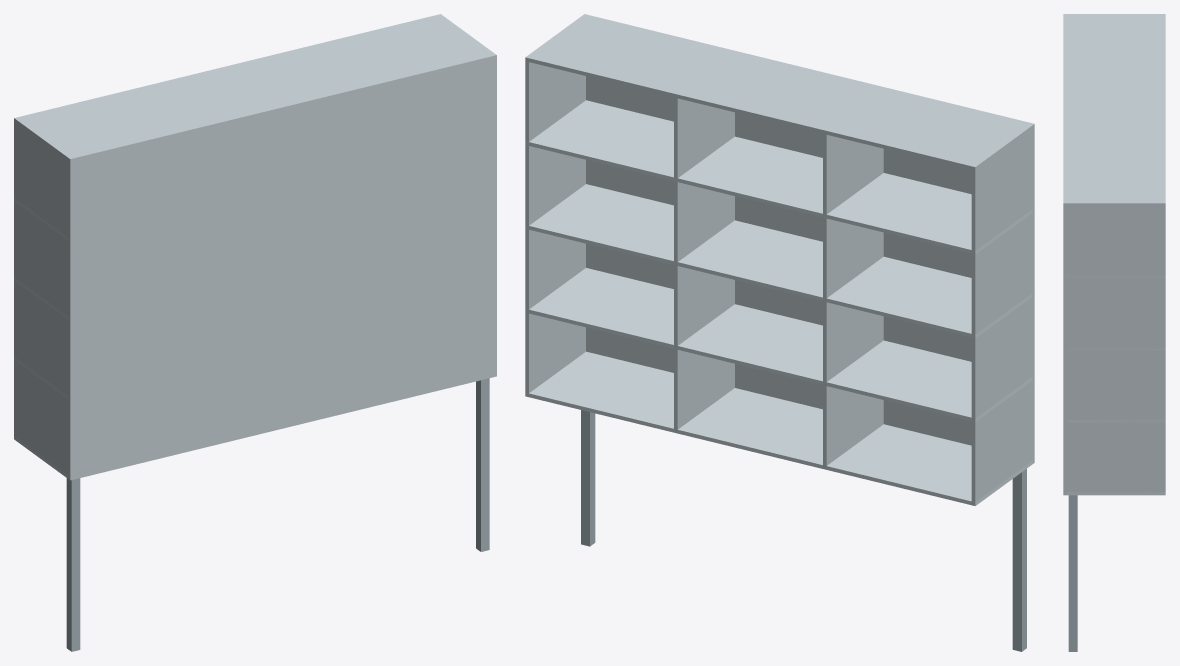
3 views of the same model, side by side, from view 1: azimuth 30°, elevation 25°; view 2: azimuth 150°, elevation 25°; view 3: azimuth 270°, elevation 25° (orthographic). The views are drawn at different scales.
Parts seen in each view (by area): view 1: QR17_GRID_BACK, QR17_GRID_ROOF, QR17_GRID_WALL_0, QR17_GRID_LEG_3.787, QR17_GRID_LEG_5.199999999999999; view 2: QR17_GRID_BACK, QR17_GRID_ROOF, QR17_GRID_SHELF_1374, QR17_GRID_SHELF_1112, QR17_GRID_SHELF_588, QR17_GRID_SHELF_850, QR17_GRID_WALL_0, QR17_GRID_WALL_3, QR17_GRID_WALL_2, QR17_GRID_WALL_1, QR17_GRID_LEG_3.787, QR17_GRID_LEG_5.199999999999999; view 3: QR17_GRID_WALL_3, QR17_GRID_ROOF, QR17_GRID_BACK, QR17_GRID_LEG_5.199999999999999, QR17_GRID_SHELF_588, QR17_GRID_SHELF_1374, QR17_GRID_SHELF_850, QR17_GRID_SHELF_1112.
Part boxes in pixels (box(x1,y1,x2,y2)): QR17_GRID_BACK: box(68, 53, 496, 480); QR17_GRID_ROOF: box(14, 14, 494, 160); QR17_GRID_WALL_0: box(14, 122, 68, 474); QR17_GRID_LEG_3.787: box(66, 478, 80, 651); QR17_GRID_LEG_5.199999999999999: box(476, 378, 489, 551); QR17_GRID_BACK: box(583, 14, 1034, 463); QR17_GRID_ROOF: box(525, 15, 1032, 170); QR17_GRID_SHELF_1374: box(525, 100, 1032, 254); QR17_GRID_SHELF_1112: box(525, 184, 1032, 338); QR17_GRID_SHELF_588: box(525, 351, 1032, 505); QR17_GRID_SHELF_850: box(525, 268, 1032, 421); QR17_GRID_WALL_0: box(971, 125, 1032, 505); QR17_GRID_WALL_3: box(525, 57, 585, 396); QR17_GRID_WALL_2: box(674, 93, 734, 433); QR17_GRID_WALL_1: box(823, 130, 883, 469); QR17_GRID_LEG_3.787: box(1012, 469, 1026, 651); QR17_GRID_LEG_5.199999999999999: box(581, 410, 595, 546); QR17_GRID_WALL_3: box(1067, 202, 1165, 491); QR17_GRID_ROOF: box(1067, 14, 1165, 206); QR17_GRID_BACK: box(1063, 14, 1066, 495); QR17_GRID_LEG_5.199999999999999: box(1068, 495, 1077, 651); QR17_GRID_SHELF_588: box(1067, 492, 1165, 495); QR17_GRID_SHELF_1374: box(1067, 275, 1165, 278); QR17_GRID_SHELF_850: box(1067, 419, 1165, 422); QR17_GRID_SHELF_1112: box(1067, 347, 1165, 350).
Bounding box in the file's own units: 1.47 × 1.64 × 0.336.
